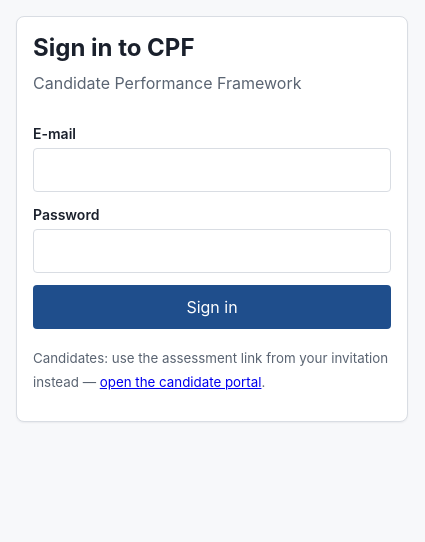
Test: LoginPage › shows a lockout message distinct from invalid-credential messaging
Type "founder@cpf.local" into the field labelled "E-mail". click: (212, 170)
box: [33, 148, 391, 192]
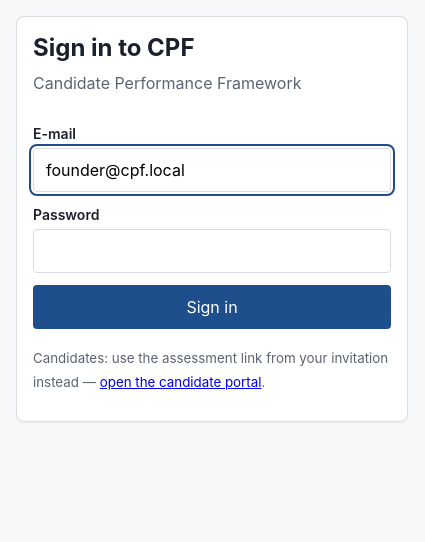
Type "wrong" into the password field labelled "Password". click: (212, 251)
box: [33, 229, 391, 273]
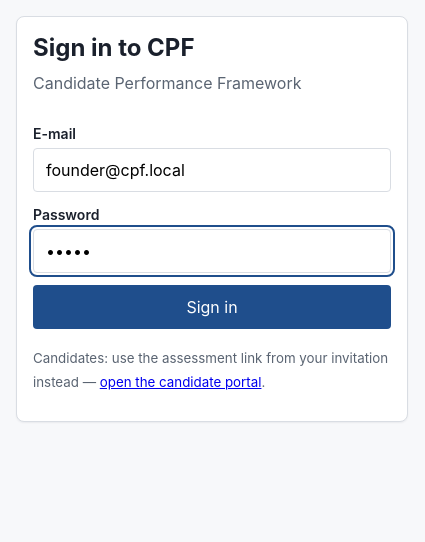
Click the button "Sign in". click: (212, 307)
box: [33, 285, 391, 329]
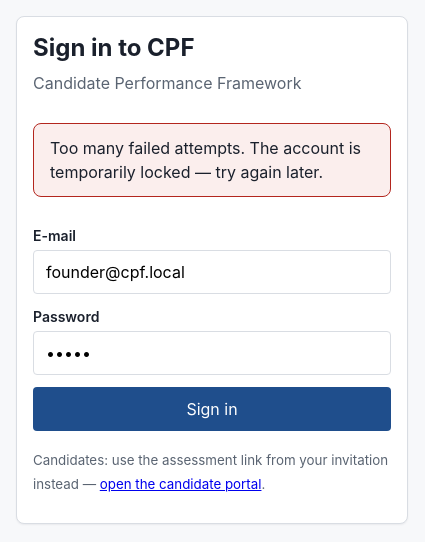
Check: the text "Too many failed attempts. The account is temporarily locked — try again later." is shown, box [33, 123, 391, 197]
